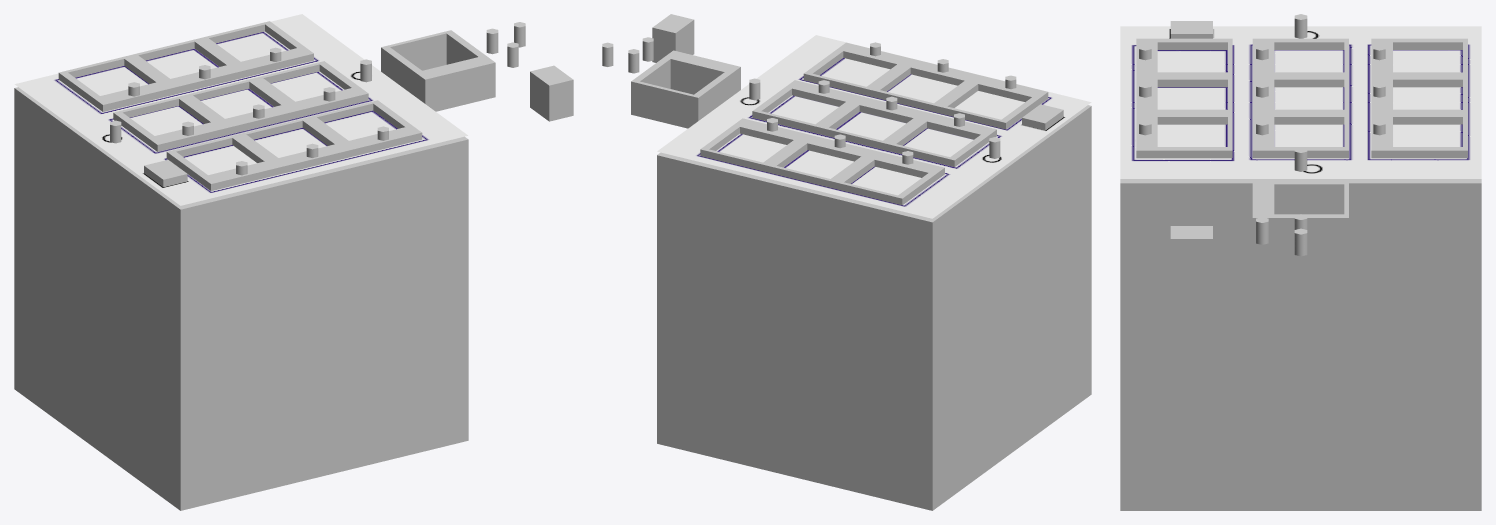
Rendered from PictureSymbolSlotPuzzle.fbx.
3 views of the same model, side by side, from view 1: azimuth 30°, elevation 25°; view 2: azimuth 150°, elevation 25°; view 3: azimuth 270°, elevation 25° (orthographic). The views are drawn at different scales.
Visible parts, largest first — view 1: Box001, Plane001, Box006, Box016, Box013, Box010, Box008, Box009, Box015, Box011, Box012, Box014 (+2 smaller); view 2: Box001, Plane001, Box006, Box013, Box016, Box010, Box011, Box012, Box008, Box014, Box009, Box015 (+2 smaller); view 3: Box001, Plane001, Box006, Box012, Box015, Box009, Box007, Box008, Box011, Box014, Box010, Box013 (+2 smaller).
Part boxes in pixels (x1=…): Box001: x1=14, y1=87, x2=468, y2=510; Plane001: x1=14, y1=14, x2=467, y2=205; Box006: x1=381, y1=30, x2=495, y2=111; Box016: x1=166, y1=134, x2=281, y2=190; Box013: x1=58, y1=55, x2=173, y2=111; Box010: x1=113, y1=95, x2=227, y2=151; Box008: x1=184, y1=78, x2=298, y2=134; Box009: x1=254, y1=61, x2=368, y2=117; Box015: x1=308, y1=100, x2=422, y2=156; Box011: x1=129, y1=38, x2=243, y2=94; Box012: x1=200, y1=21, x2=313, y2=77; Box014: x1=237, y1=117, x2=351, y2=173; Box001: x1=657, y1=105, x2=1091, y2=510; Plane001: x1=657, y1=35, x2=1091, y2=218; Box006: x1=631, y1=50, x2=740, y2=128; Box013: x1=835, y1=151, x2=944, y2=205; Box016: x1=938, y1=75, x2=1048, y2=129; Box010: x1=887, y1=113, x2=996, y2=166; Box011: x1=767, y1=135, x2=876, y2=188; Box012: x1=700, y1=118, x2=809, y2=172; Box008: x1=820, y1=96, x2=928, y2=150; Box014: x1=871, y1=59, x2=980, y2=113; Box009: x1=752, y1=80, x2=861, y2=134; Box015: x1=803, y1=42, x2=912, y2=96; Box001: x1=1120, y1=179, x2=1481, y2=510; Plane001: x1=1120, y1=26, x2=1481, y2=178; Box006: x1=1252, y1=180, x2=1348, y2=255; Box012: x1=1371, y1=113, x2=1467, y2=158; Box015: x1=1136, y1=113, x2=1232, y2=158; Box009: x1=1252, y1=113, x2=1348, y2=158; Box007: x1=1170, y1=226, x2=1212, y2=277; Box008: x1=1252, y1=76, x2=1348, y2=113; Box011: x1=1371, y1=76, x2=1467, y2=113; Box014: x1=1136, y1=76, x2=1232, y2=113; Box010: x1=1252, y1=38, x2=1348, y2=75; Box013: x1=1371, y1=38, x2=1467, y2=75.
Bounding box in the file's own units: 176 × 126 × 118.
1 material, 1 textured.
